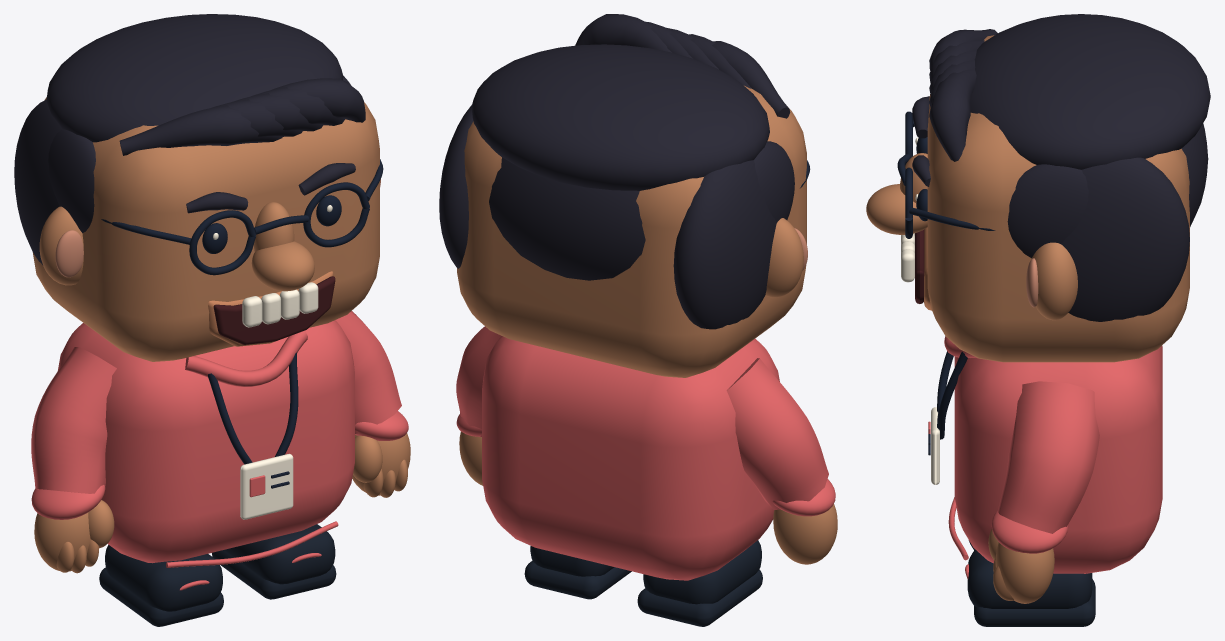
The model's file is colleague.glb.
3 renders of one model, left to right at view 1: azimuth 30°, elevation 25°; view 2: azimuth 150°, elevation 25°; view 3: azimuth 270°, elevation 25°, orthographic.
Visible parts, largest first — view 1: colleague_warm_vinyl, colleague_satin_clothing, colleague_hair, colleague_shoes, colleague_eyes, colleague_trim, colleague_ivory, colleague_mouth, colleague_ear_inset, colleague_lip; view 2: colleague_hair, colleague_satin_clothing, colleague_warm_vinyl, colleague_shoes, colleague_trim; view 3: colleague_hair, colleague_satin_clothing, colleague_warm_vinyl, colleague_shoes, colleague_eyes, colleague_trim, colleague_ivory, colleague_mouth, colleague_ear_inset.
Boxes of the visible parts, <box> form: colleague_warm_vinyl: <box>32,97,410,573</box>; colleague_satin_clothing: <box>31,311,401,563</box>; colleague_hair: <box>14,14,365,265</box>; colleague_shoes: <box>99,524,336,626</box>; colleague_eyes: <box>101,159,383,488</box>; colleague_trim: <box>31,330,408,590</box>; colleague_ivory: <box>213,205,332,519</box>; colleague_mouth: <box>213,276,335,344</box>; colleague_ear_inset: <box>55,179,380,277</box>; colleague_lip: <box>208,271,333,346</box>; colleague_hair: <box>439,14,794,329</box>; colleague_satin_clothing: <box>456,326,828,580</box>; colleague_warm_vinyl: <box>457,85,837,564</box>; colleague_shoes: <box>524,540,762,626</box>; colleague_trim: <box>456,413,835,516</box>; colleague_hair: <box>912,14,1210,321</box>; colleague_satin_clothing: <box>928,345,1162,573</box>; colleague_warm_vinyl: <box>866,35,1189,603</box>; colleague_shoes: <box>967,540,1095,626</box>; colleague_eyes: <box>897,111,995,455</box>; colleague_trim: <box>944,336,1068,579</box>; colleague_ivory: <box>901,137,939,484</box>; colleague_mouth: <box>915,229,924,303</box>; colleague_ear_inset: <box>1026,258,1038,307</box>.
Bounding box in the file's own units: 1.35 × 1.85 × 1.08.
